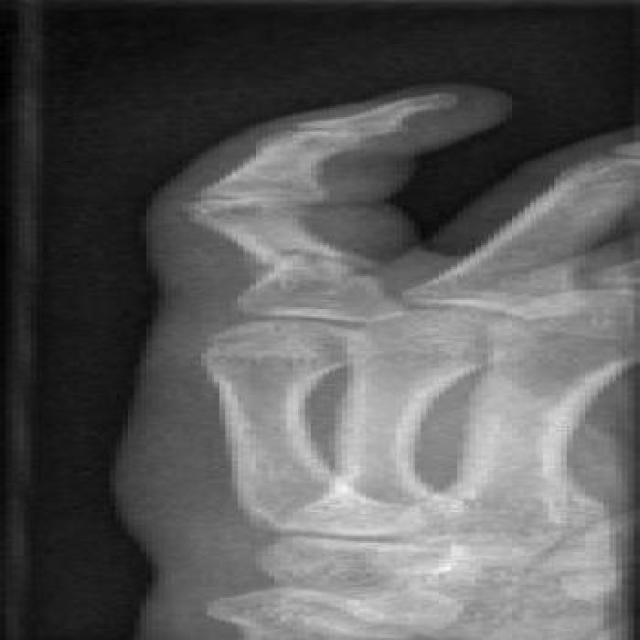fracture: (237, 236, 392, 281)
